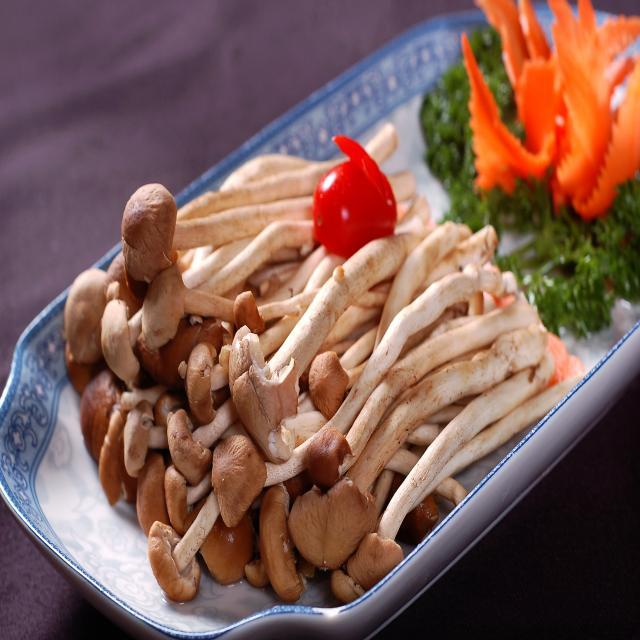Agrocybe aegerita: (62, 130, 576, 592)
